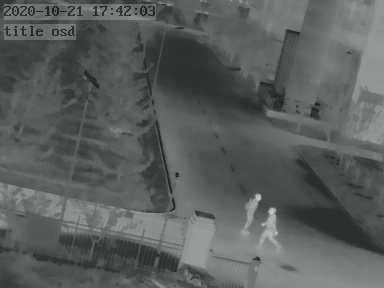person: (259, 205, 280, 248), (244, 193, 260, 234)
